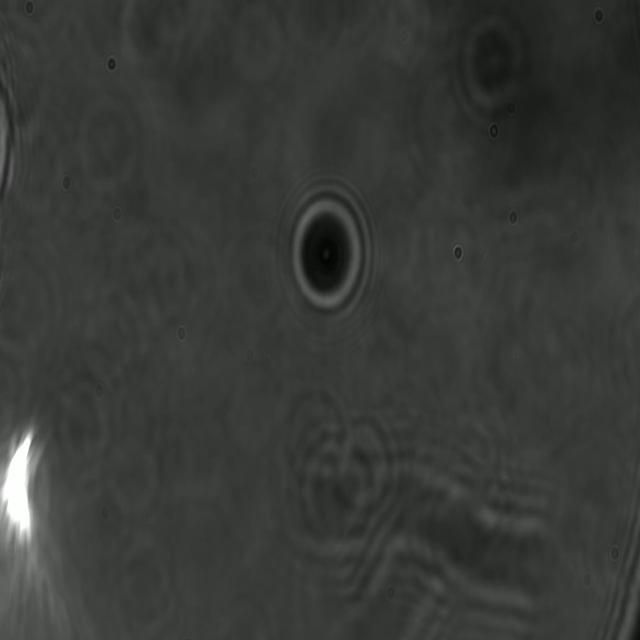DCELL: (285, 179, 371, 319)
